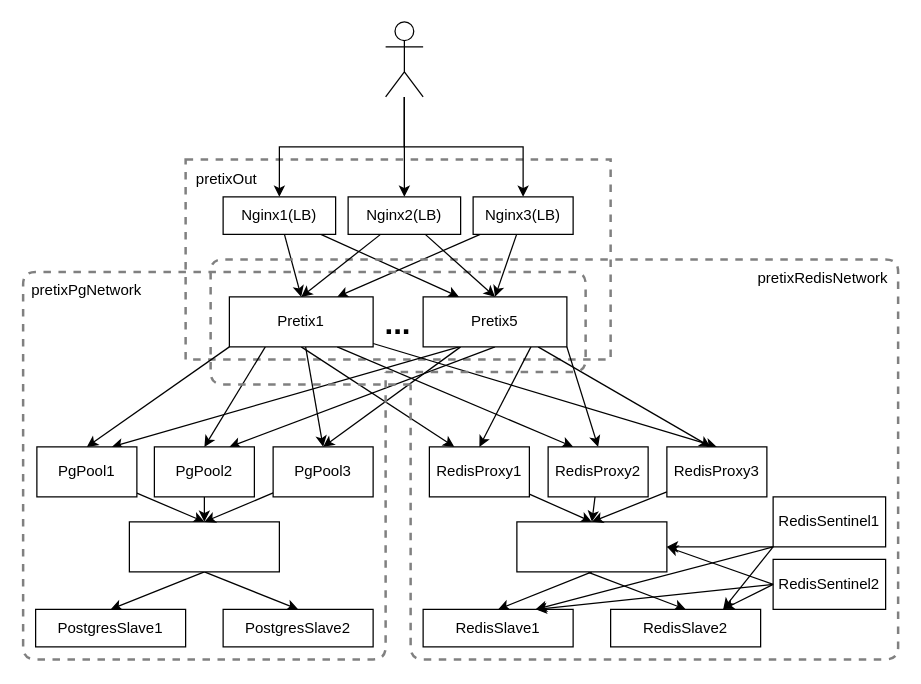
This 921x684 diagram has some shape labels left out. Here are the shapes that lost their labels. From the top down, the centre of each, then its label:
At (x=403, y=59): "User".
At (x=203, y=546): "PostgresMaster".
At (x=591, y=546): "RedisMaster".
